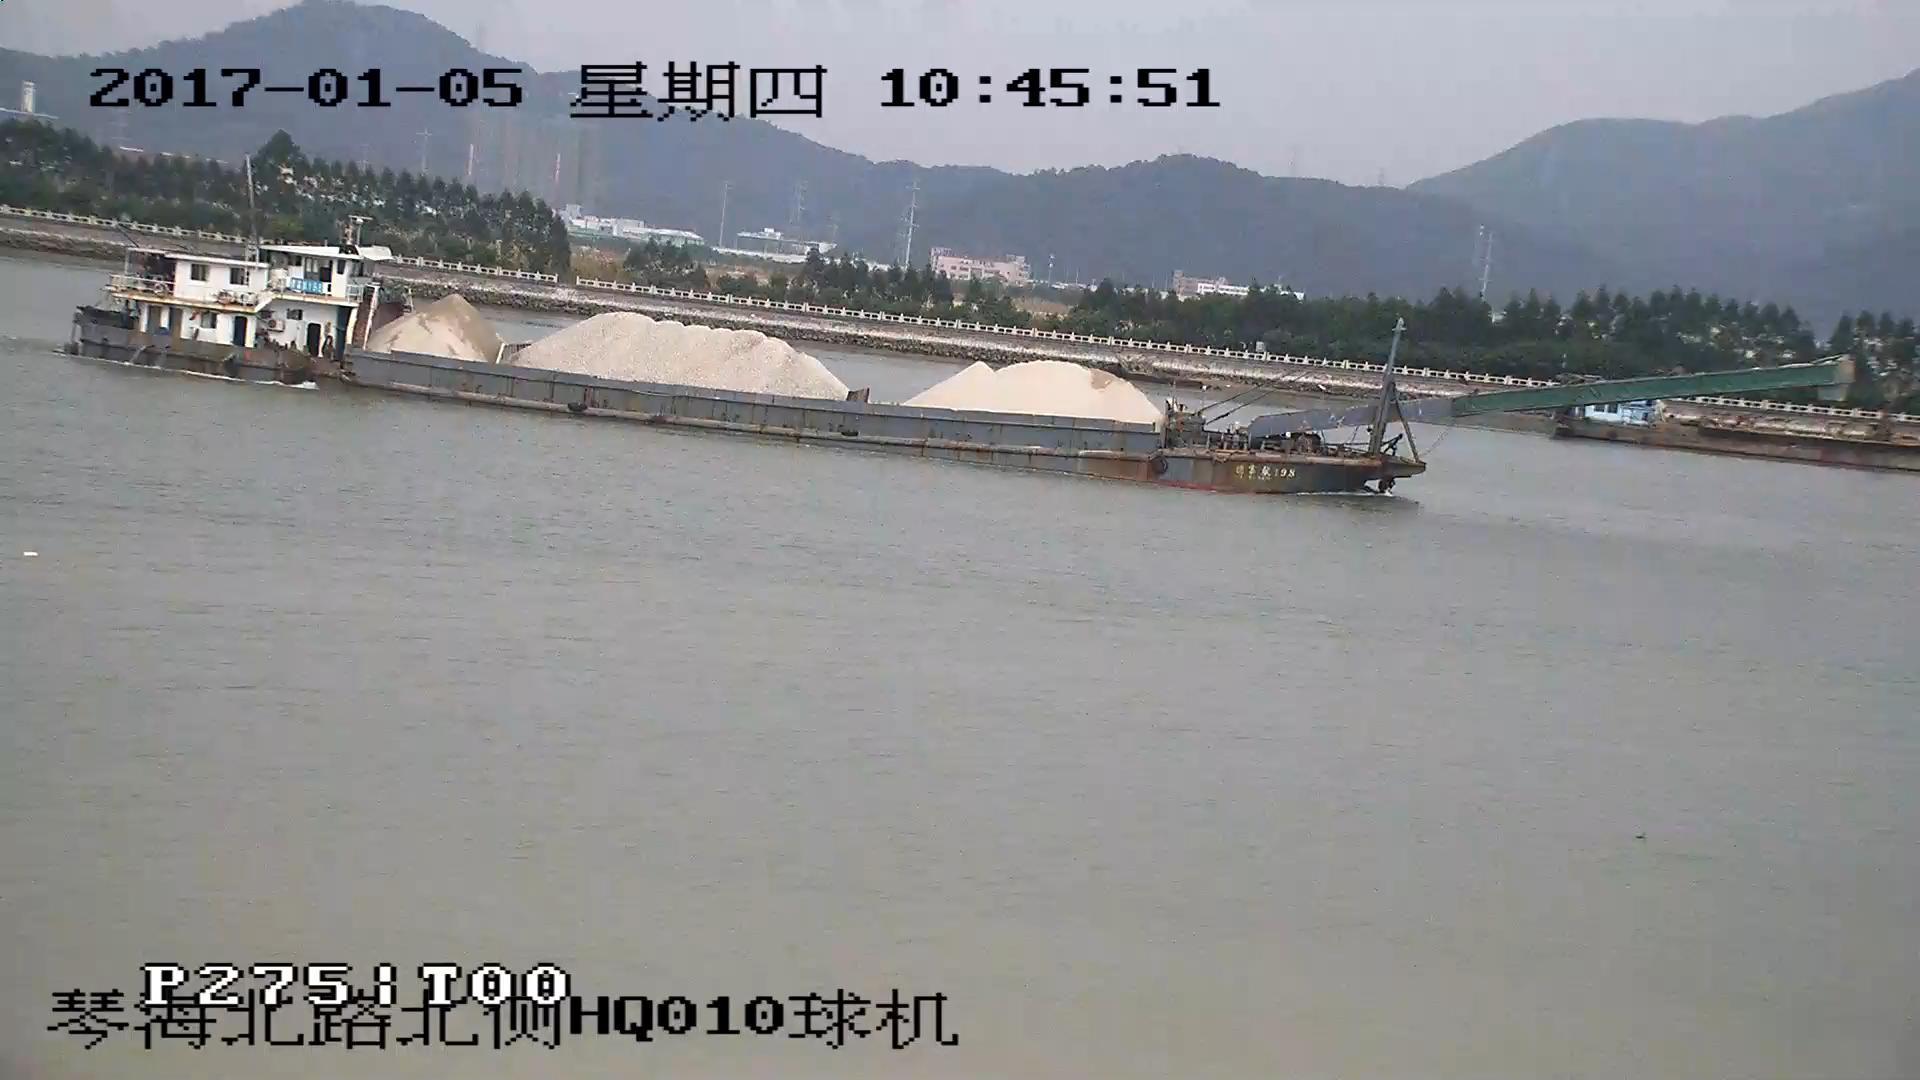ore carrier: (75, 238, 1855, 499)
